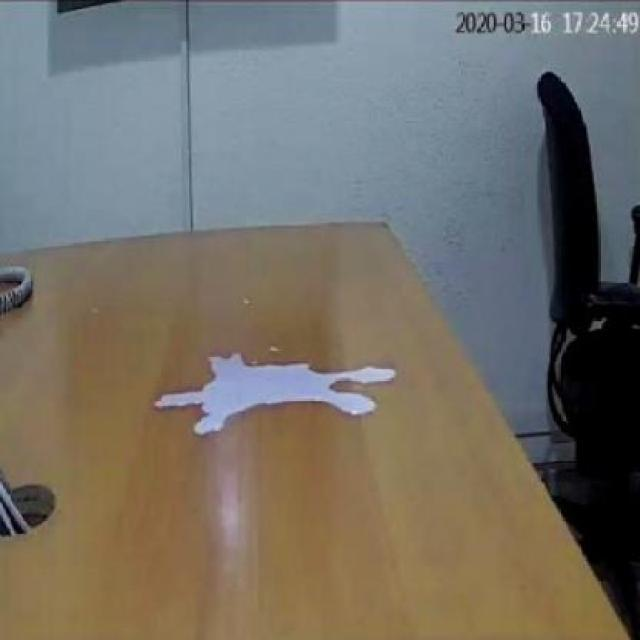spillage: (153, 357, 395, 437)
